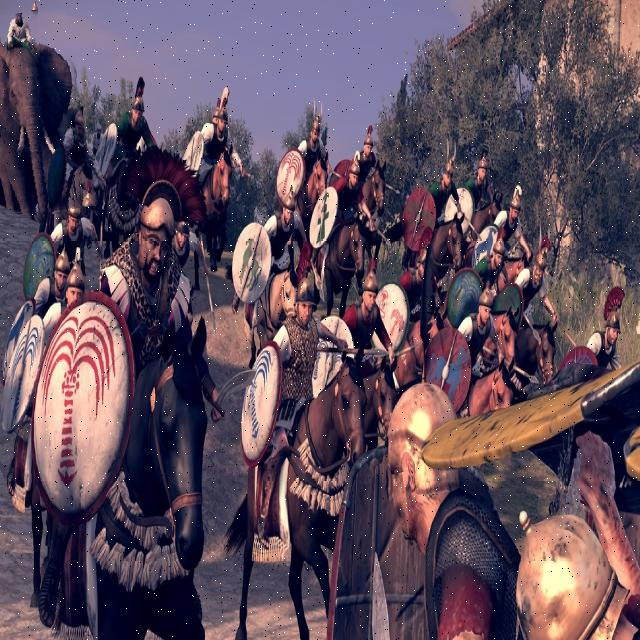elephant: (0, 10, 91, 215)
